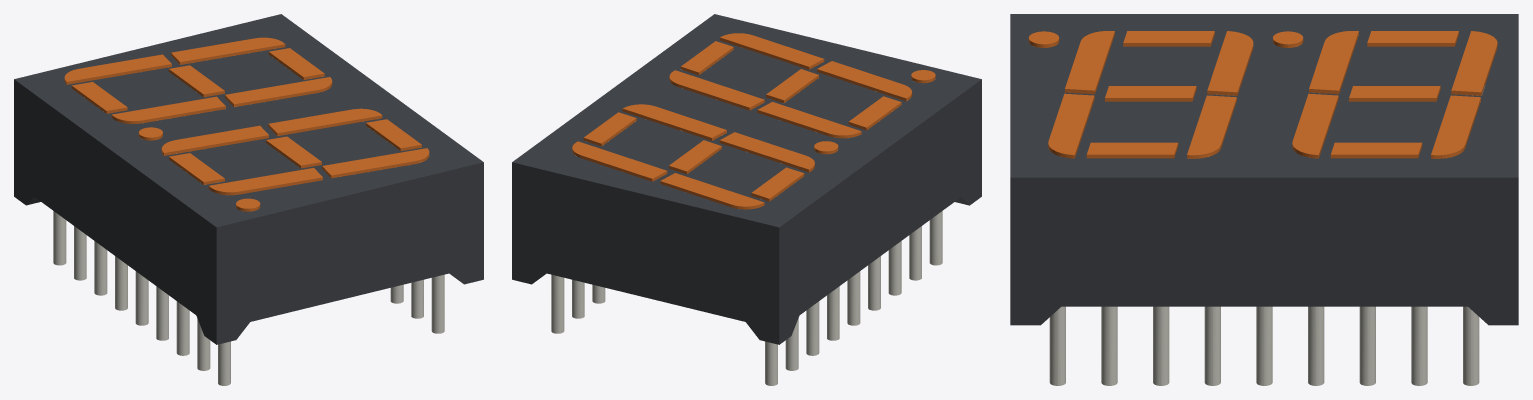
File: kc-da56-11sekwa.glb
3 renders of one model, left to right at view 1: azimuth 30°, elevation 25°; view 2: azimuth 150°, elevation 25°; view 3: azimuth 270°, elevation 25°, orthographic. The views are drawn at different scales.
Visible parts, largest first — view 1: 0.08333333333333333_0.08333333333333333_0.08333333333333333_, 0.5833333333333334_0.16666666666666666_0_0, 0.6666666666666666_0.6666666666666666_0.5833333333333334_0.8; view 2: 0.08333333333333333_0.08333333333333333_0.08333333333333333_, 0.5833333333333334_0.16666666666666666_0_0, 0.6666666666666666_0.6666666666666666_0.5833333333333334_0.8; view 3: 0.08333333333333333_0.08333333333333333_0.08333333333333333_, 0.5833333333333334_0.16666666666666666_0_0, 0.6666666666666666_0.6666666666666666_0.5833333333333334_0.8.
Boxes of the visible parts, x1=… form: 0.08333333333333333_0.08333333333333333_0.08333333333333333_: x1=14, y1=14, x2=483, y2=344; 0.5833333333333334_0.16666666666666666_0_0: x1=64, y1=37, x2=429, y2=211; 0.6666666666666666_0.6666666666666666_0.5833333333333334_0.8: x1=53, y1=211, x2=444, y2=385; 0.08333333333333333_0.08333333333333333_0.08333333333333333_: x1=512, y1=14, x2=981, y2=344; 0.5833333333333334_0.16666666666666666_0_0: x1=572, y1=33, x2=935, y2=209; 0.6666666666666666_0.6666666666666666_0.5833333333333334_0.8: x1=551, y1=211, x2=942, y2=385; 0.08333333333333333_0.08333333333333333_0.08333333333333333_: x1=1010, y1=14, x2=1518, y2=325; 0.5833333333333334_0.16666666666666666_0_0: x1=1028, y1=31, x2=1497, y2=158; 0.6666666666666666_0.6666666666666666_0.5833333333333334_0.8: x1=1049, y1=306, x2=1479, y2=385.
Bounding box in the file's own units: 1.91 × 1.22 × 2.5.
